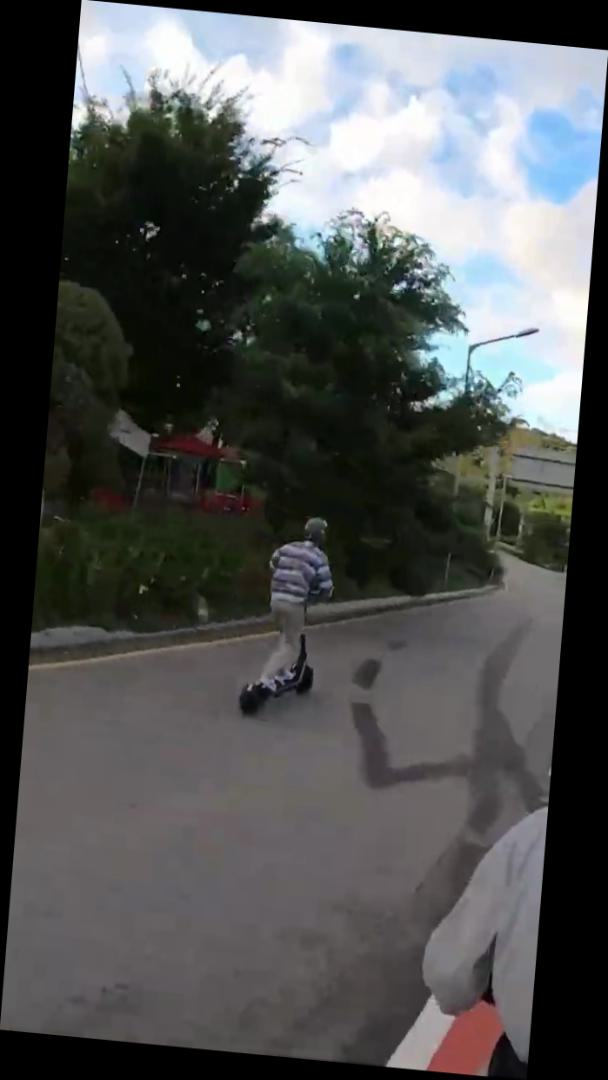helmet: (237, 506, 346, 726)
